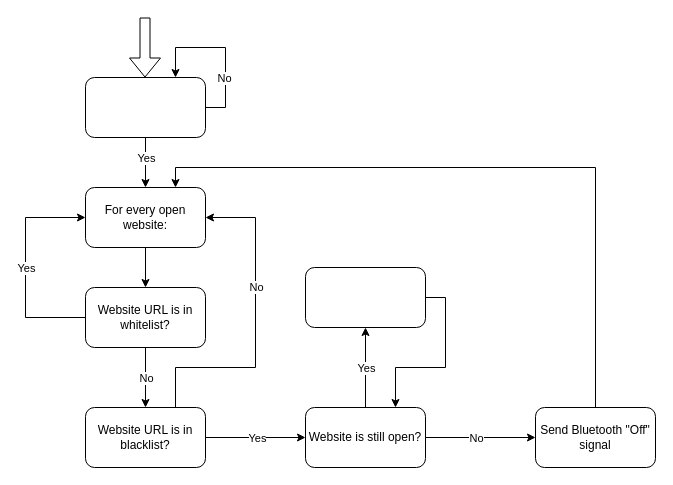
This 673x485 diagram has some shape labels left out. The centre of each missing label's shape, as x and y in pixels:
Send Bluetooth "On" signal: [365,297]
Software running?: [145,107]
